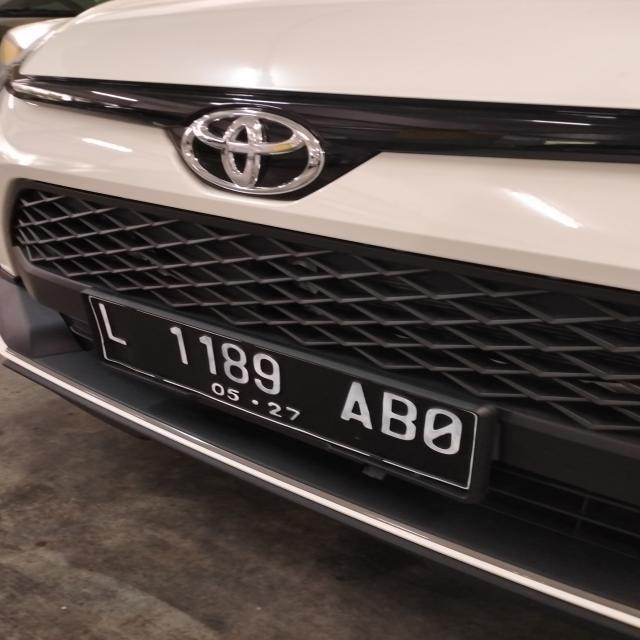1: (162, 322, 195, 368), (196, 332, 222, 378)
8: (222, 336, 252, 388)
9: (252, 348, 287, 401)
A: (340, 380, 376, 430)
B: (380, 386, 420, 448)
L: (88, 298, 134, 348)
O: (421, 403, 465, 463)
